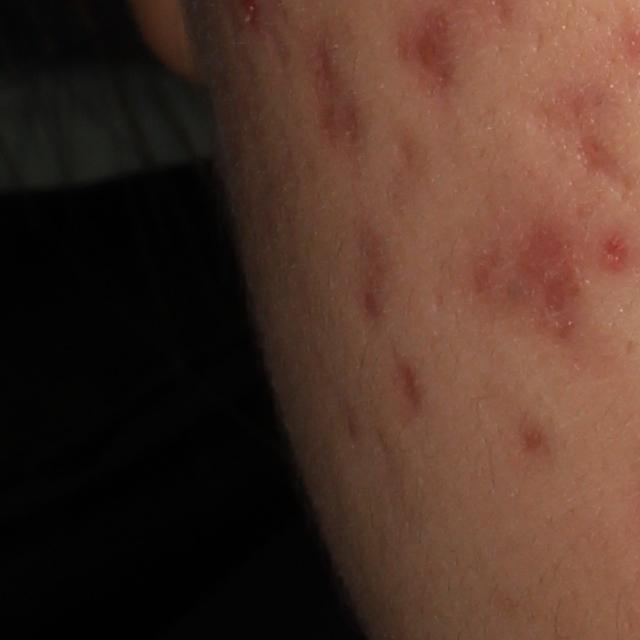atrophic_scar: (290, 12, 375, 180), (530, 85, 622, 185), (353, 211, 390, 324), (388, 337, 429, 411)
